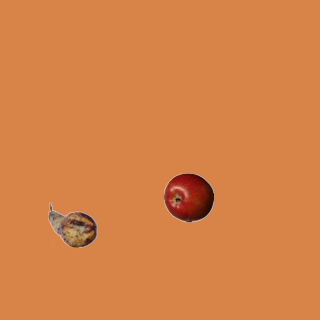Apple Braeburn: (163, 172, 213, 222)
Pear Abate: (47, 200, 97, 250)
